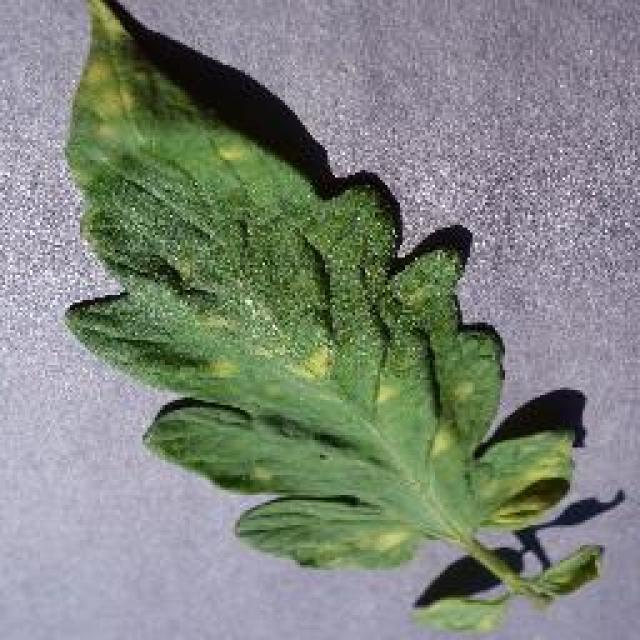Tomato mold leaf: (60, 0, 575, 568)
